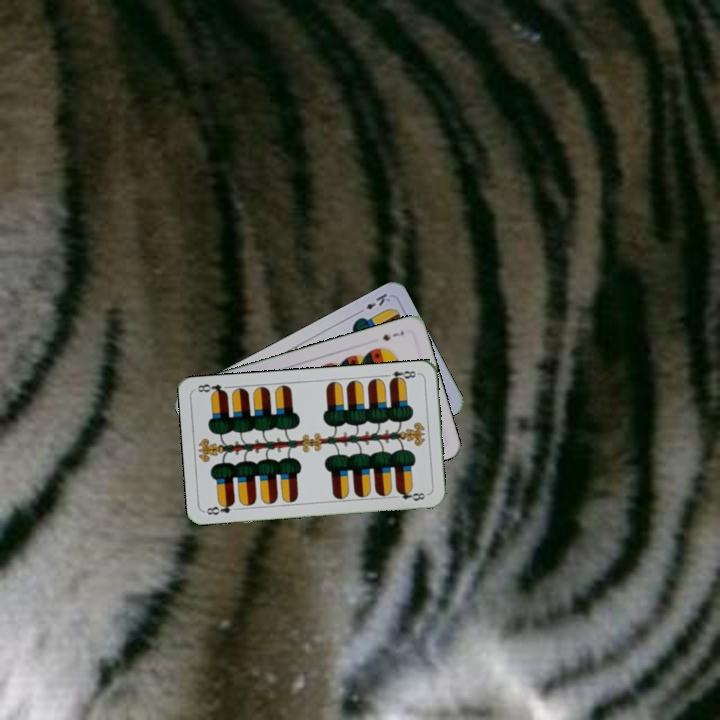E8: (381, 367, 421, 385), (202, 498, 237, 517)
EK: (354, 289, 393, 316)
S7: (378, 327, 406, 343)
